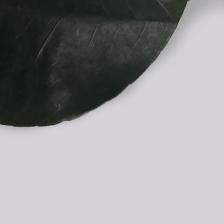healthy: (1, 4, 157, 122)
